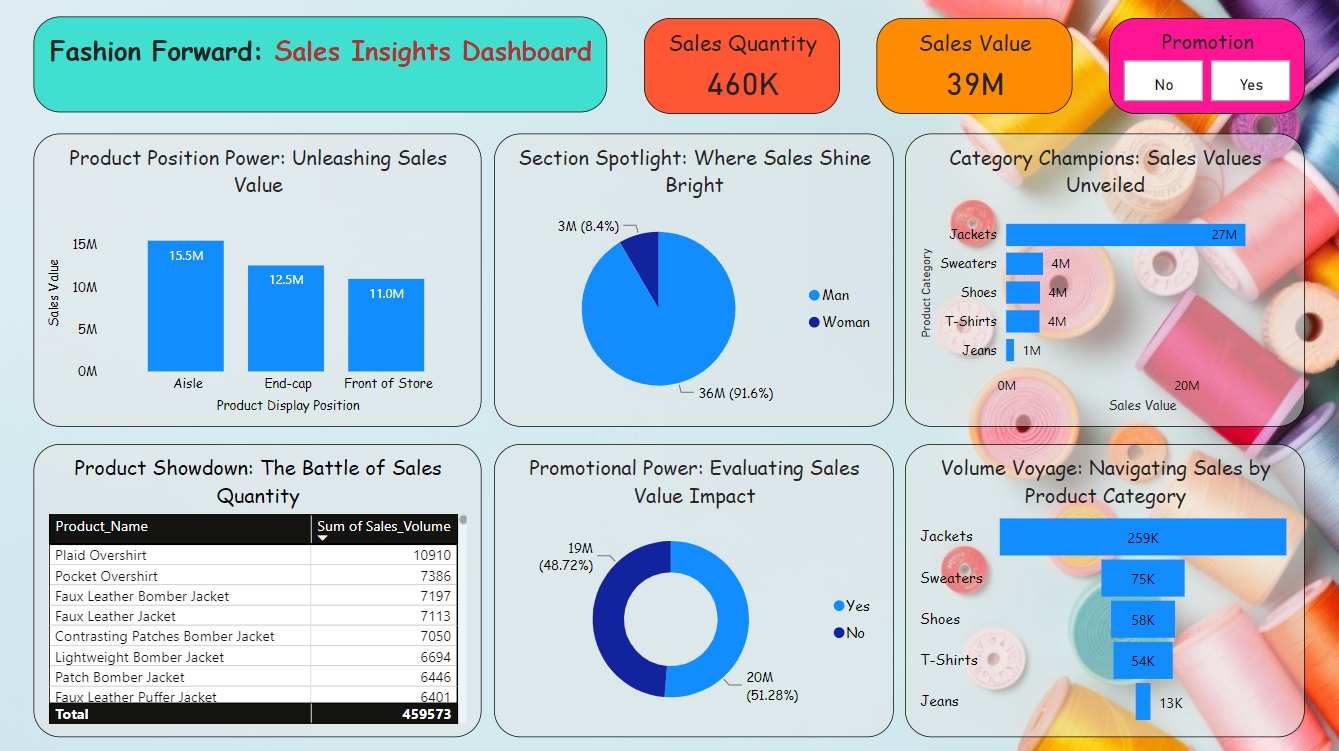

The dashboard page shown, as its layout file describes it:
{"tool":"powerbi","page":{"name":"Sales Insights Dashboard","canvas":[1280,720],"ordinal":0},"visuals":[{"type":"group","id":"g1","title":"Group 1","box":[46.2,15.5,1194.2,90.7],"z":0},{"type":"card","title":"Sales Value","fields":{"Values":["Sum(Zara Sales Dataset.Sales_Value)"]},"box":[838,16.2,183.9,90],"z":0,"group":"g1"},{"type":"card","title":"Sales Quantity","fields":{"Values":["Sum(Zara Sales Dataset.Sales Volume)"]},"box":[619.5,16.2,183.9,90],"z":1000,"group":"g1"},{"type":"group","id":"g2","title":"Group 2","box":[46.9,126,1194.1,567.4],"z":1000},{"type":"donutChart","title":"Promotional Power: Evaluating Sales Value Impact","fields":{"Category":["Zara Sales Dataset.Promotion"],"Y":["Sum(Zara Sales Dataset.Sales_Value)"]},"box":[479.1,418.2,375,275],"z":2000,"group":"g2"},{"type":"columnChart","title":"Product Position Power: Unleashing Sales Value","fields":{"Category":["Zara Sales Dataset.Product Position"],"Y":["Sum(Zara Sales Dataset.Sales_Value)"]},"box":[46.9,126,420.4,275.1],"z":3000,"group":"g2"},{"type":"pieChart","title":"Section Spotlight: Where Sales Shine Bright","fields":{"Category":["Zara Sales Dataset.section"],"Y":["Sum(Zara Sales Dataset.Sales_Value)"]},"box":[479.1,126,375.1,275.1],"z":4000,"group":"g2"},{"type":"barChart","title":"Category Champions: Sales Values Unveiled","fields":{"Category":["Zara Sales Dataset.terms"],"Y":["Sum(Zara Sales Dataset.Sales_Value)"]},"box":[865.9,126,375.1,275.1],"z":5000,"group":"g2"},{"type":"funnel","title":"Volume Voyage: Navigating Sales by Product Category","fields":{"Category":["Zara Sales Dataset.terms"],"Y":["Sum(Zara Sales Dataset.Sales_Volume)"]},"box":[865.9,418.2,375.1,275.1],"z":6000,"group":"g2"},{"type":"tableEx","title":"Product Showdown: The Battle of Sales Quantity","fields":{"Values":["Zara Sales Dataset.Name","Sum(Zara Sales Dataset.Sales_Volume)"]},"box":[46.9,418.2,420.4,275.1],"z":7000,"group":"g2"},{"type":"advancedSlicerVisual","fields":{"Values":["Zara Sales Dataset.Promotion"]},"box":[1056.5,16.2,183.9,90],"z":8000,"group":"g1"},{"type":"textbox","box":[46.2,15.5,538.6,90],"z":9000,"group":"g1"}]}

Visuals, with their boxes in screenshot pixels (x1, y1, x2, y2), scaled from the page's 1280x720 canvas onto the 1339x751 screenshot:
"Group 1" group: (48, 16, 1298, 111)
"Sales Value" card: (877, 17, 1069, 111)
"Sales Quantity" card: (648, 17, 840, 111)
"Group 2" group: (49, 131, 1298, 723)
"Promotional Power: Evaluating Sales Value Impact" donutChart: (501, 436, 893, 723)
"Product Position Power: Unleashing Sales Value" columnChart: (49, 131, 489, 418)
"Section Spotlight: Where Sales Shine Bright" pieChart: (501, 131, 894, 418)
"Category Champions: Sales Values Unveiled" barChart: (906, 131, 1298, 418)
"Volume Voyage: Navigating Sales by Product Category" funnel: (906, 436, 1298, 723)
"Product Showdown: The Battle of Sales Quantity" tableEx: (49, 436, 489, 723)
advancedSlicerVisual - Zara Sales Dataset.Promotion: (1105, 17, 1298, 111)
textbox: (48, 16, 612, 110)
